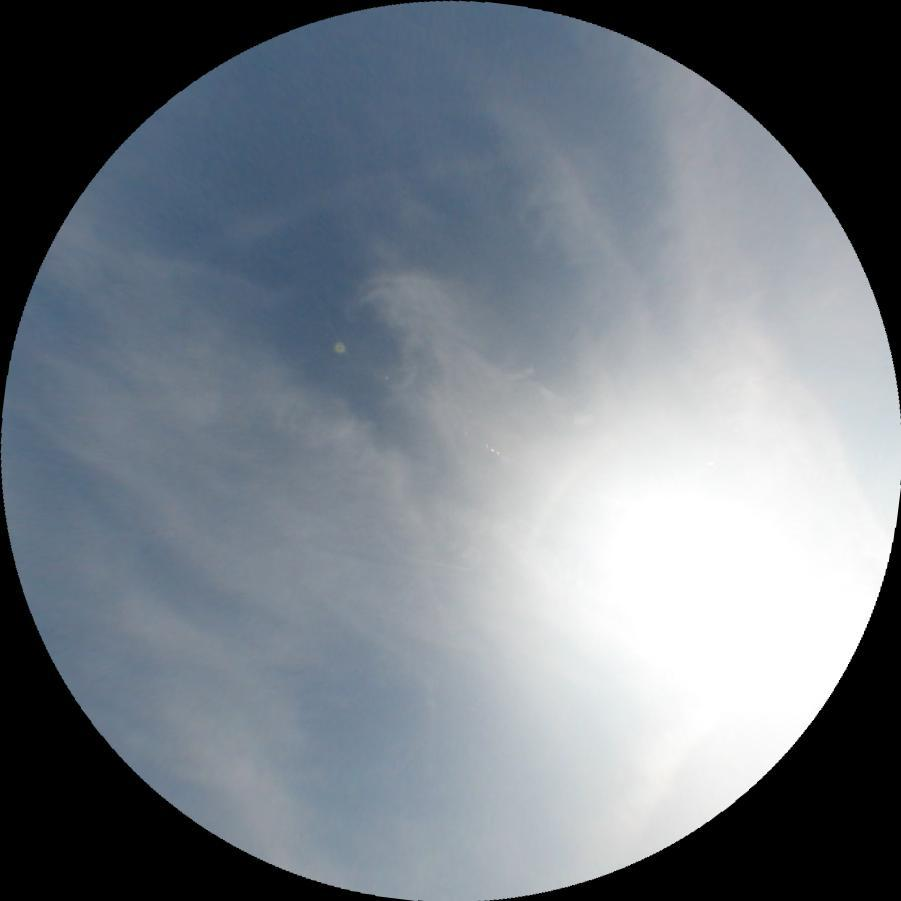contrail veryold: (218, 137, 500, 251), (578, 696, 714, 873)
contrail young: (314, 296, 350, 360), (398, 556, 474, 572)
sun: (601, 479, 854, 706)
